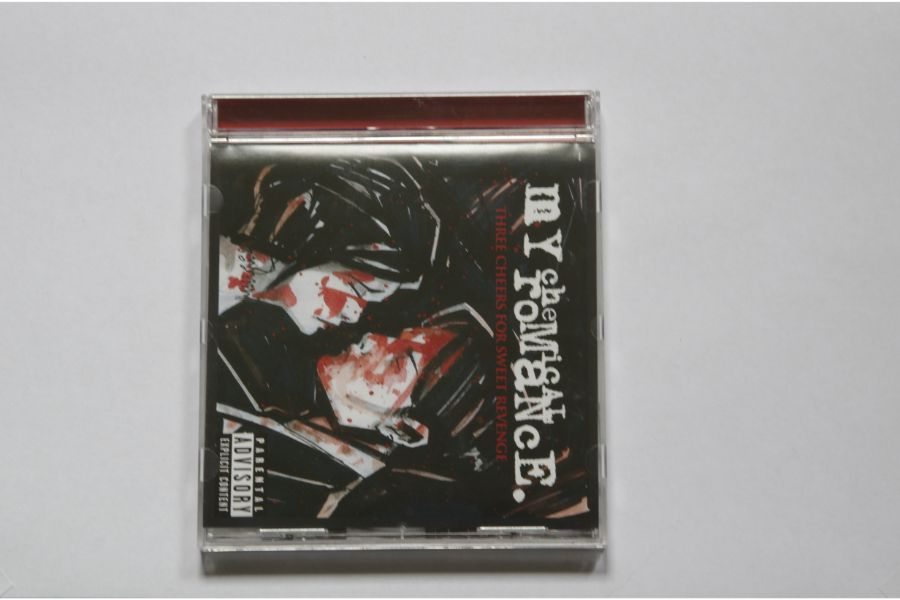album: (190, 92, 610, 554)
